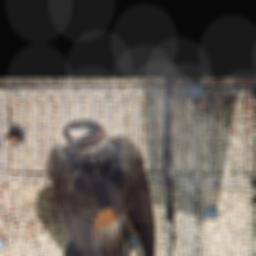Swallow: (47, 119, 159, 256)
